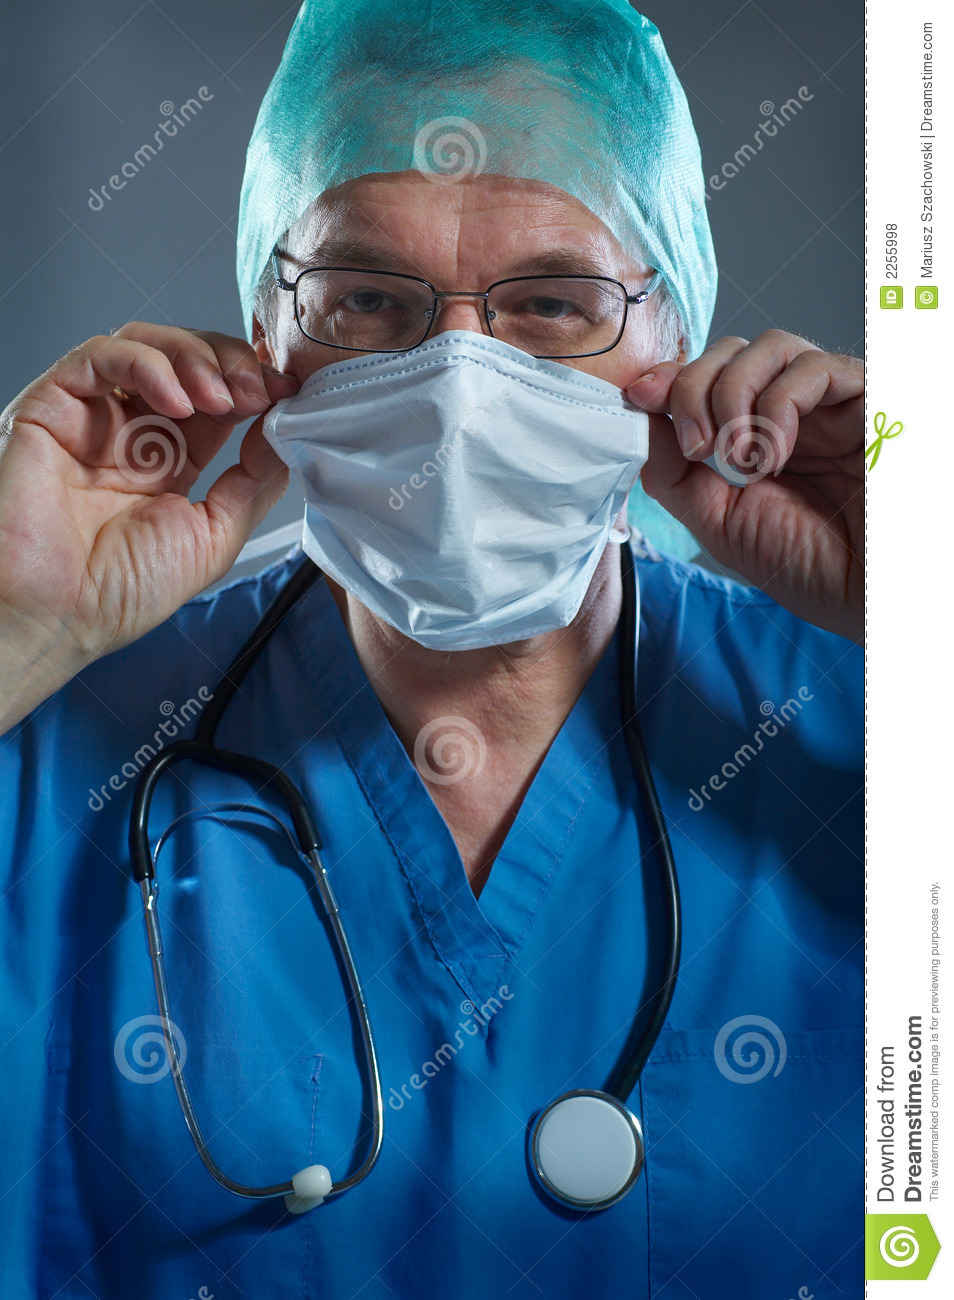mask: (247, 353, 681, 661)
